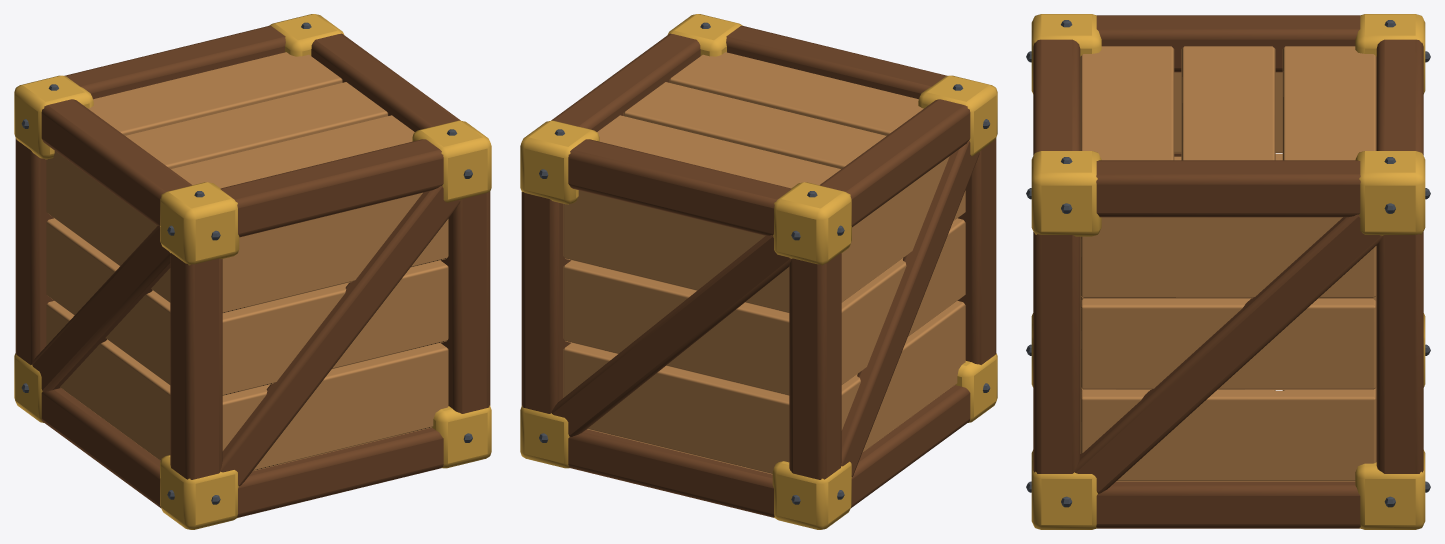
File: part_crate.glb
3 views of the same model, side by side, from view 1: azimuth 30°, elevation 25°; view 2: azimuth 150°, elevation 25°; view 3: azimuth 270°, elevation 25° (orthographic). The views are drawn at different scales.
Parts seen in each view (by area): view 1: Crate; view 2: Crate; view 3: Crate.
Part boxes in pixels (bbox=[...]): Crate: bbox=[14, 14, 491, 529]; Crate: bbox=[520, 14, 997, 529]; Crate: bbox=[1026, 14, 1430, 529].
Size of the model in its own units: 1.03 by 1.04 by 1.04.
